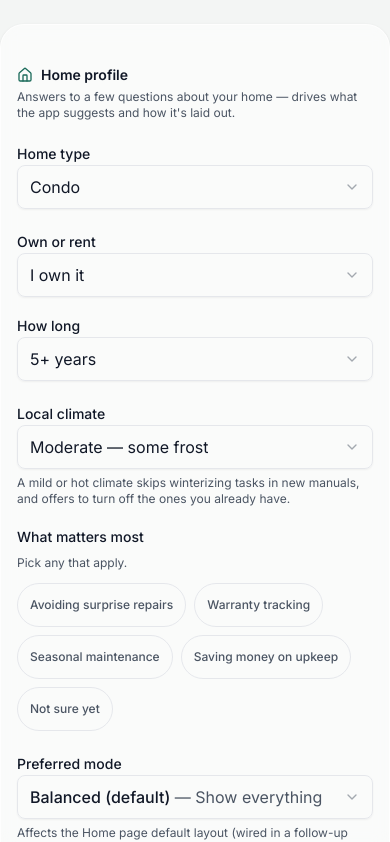
Scenario: Settings › Home profile · the winterizing offer after a Mild/Hot save › a change FROM a freezing climate to Mild offers
Click the dropdown named "Local climate" at (195,447), box [17,425,373,469]
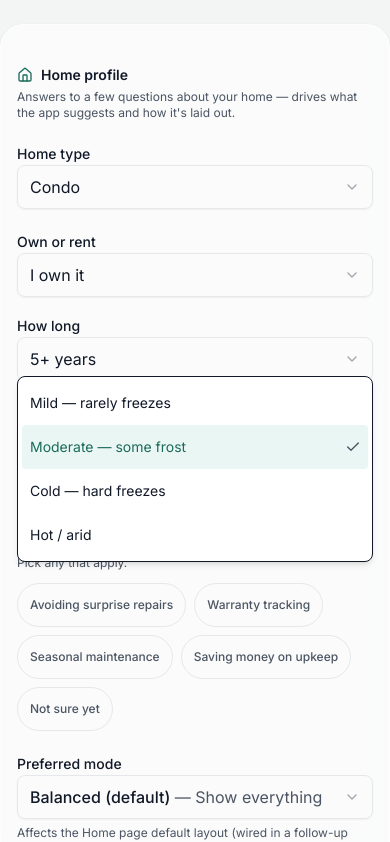
Click the option "Mild — rarely freezes" at (100,402), box [30,394,171,411]
(page scrolled)
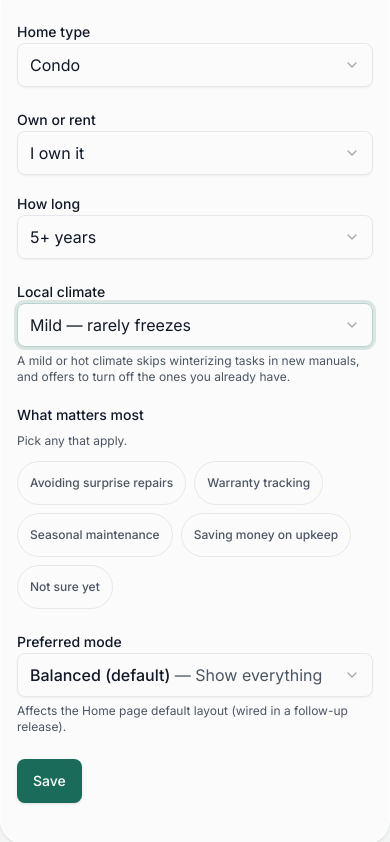
Click the button "Save" at (49,781), box [17,759,82,803]
(page scrolled)
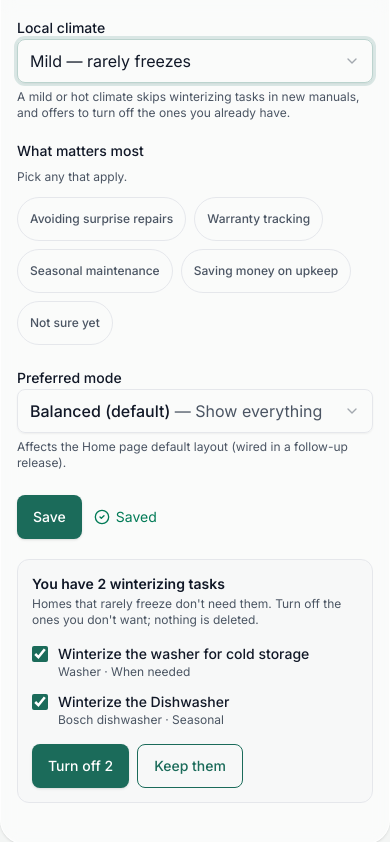
expect the element with test id "winterizing-offer" is shown: met, box [17,559,373,803]
